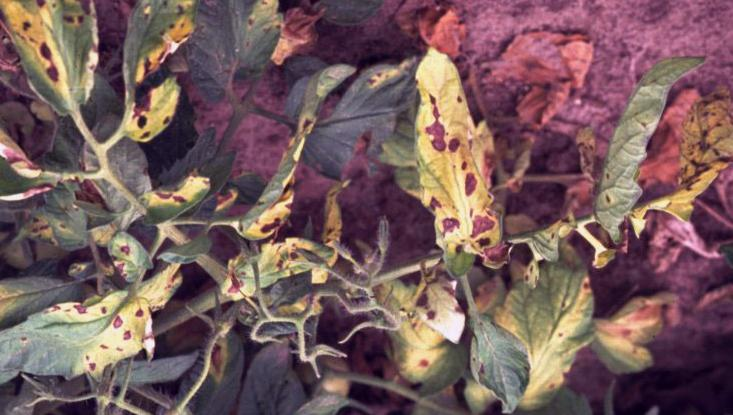Tomato Early blight leaf: (415, 52, 522, 275), (0, 272, 191, 393), (114, 0, 211, 140), (9, 0, 115, 113), (657, 74, 733, 223)
